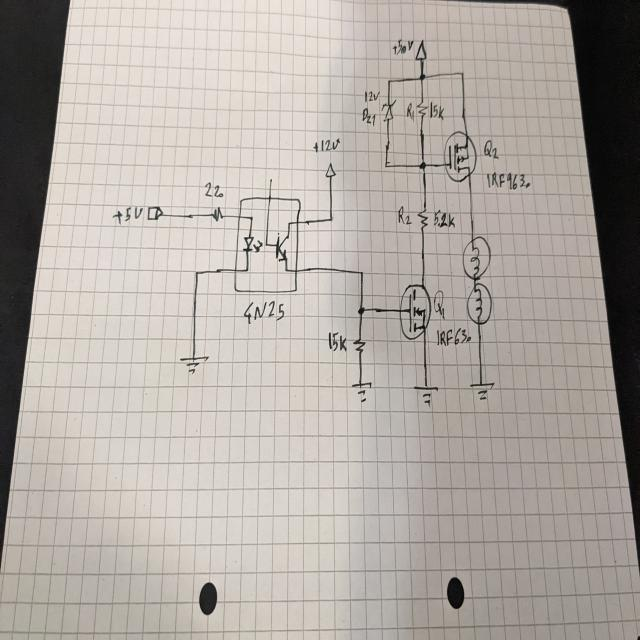diode: (381, 97, 397, 123)
ground: (178, 352, 209, 375), (469, 378, 496, 401), (414, 382, 439, 406), (352, 379, 372, 403)
junction: (357, 304, 365, 316), (419, 159, 426, 171), (418, 71, 425, 82), (194, 268, 199, 278), (359, 268, 364, 278), (328, 213, 333, 223), (386, 77, 392, 85), (460, 68, 464, 78), (384, 161, 388, 169)
resistor: (417, 206, 429, 230), (352, 336, 366, 353), (415, 100, 427, 118), (211, 206, 223, 220)
source: (322, 159, 339, 182), (146, 203, 164, 222), (414, 38, 428, 62)
terminal: (264, 164, 276, 185)
text: (242, 299, 284, 324), (486, 169, 531, 191), (111, 204, 144, 225), (437, 326, 471, 346), (432, 208, 456, 228), (312, 136, 340, 153), (327, 330, 347, 353), (392, 37, 414, 56), (433, 288, 446, 318), (483, 138, 499, 160), (204, 182, 223, 199), (429, 100, 445, 120), (361, 107, 376, 127), (397, 205, 411, 226), (364, 87, 380, 103), (405, 102, 415, 122)
transistor: (398, 282, 432, 342), (443, 128, 477, 184)
